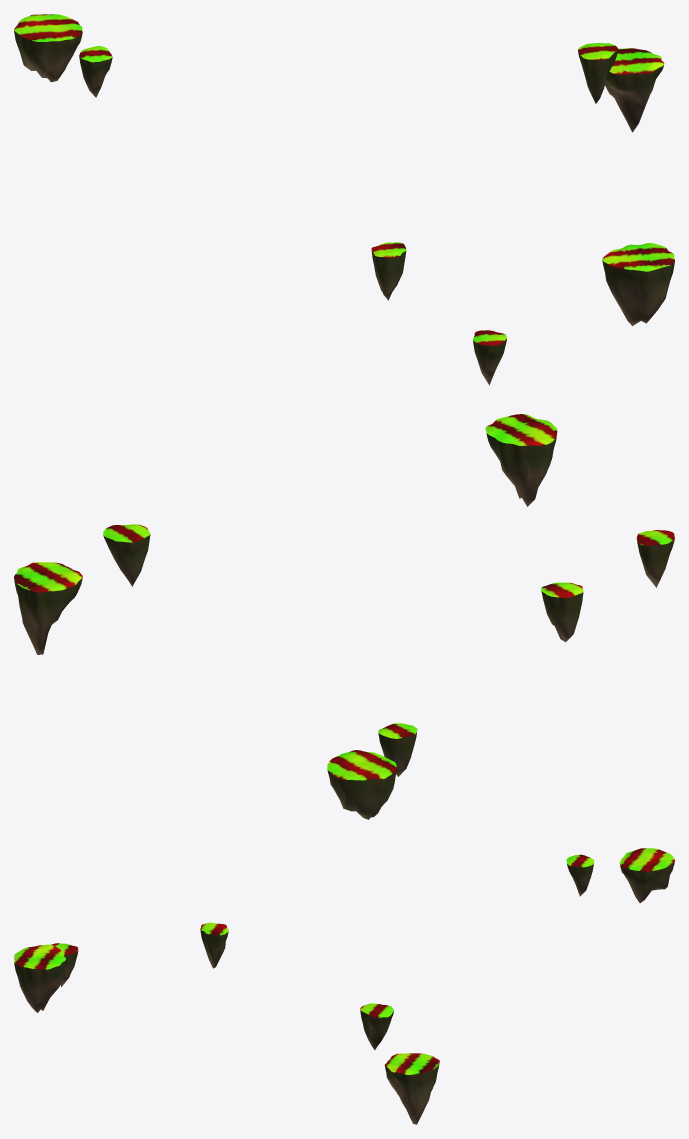
The model's file is SM_H05_Floaters.fbx.
3 views of the same model, one above another, from view 1: azimuth 30°, elevation 25°; view 2: azimuth 150°, elevation 25°; view 3: azimuth 270°, elevation 25° (orthographic). The views are drawn at different scales.
Visible parts, largest first — view 1: SM_H05_Floaters; view 2: SM_H05_Floaters; view 3: SM_H05_Floaters.
Part boxes in pixels (<box>): SM_H05_Floaters: <box>14,14,674,385</box>; SM_H05_Floaters: <box>14,414,674,819</box>; SM_H05_Floaters: <box>14,848,674,1124</box>.
Size of the model in its own units: 248 by 57.96 by 351.
